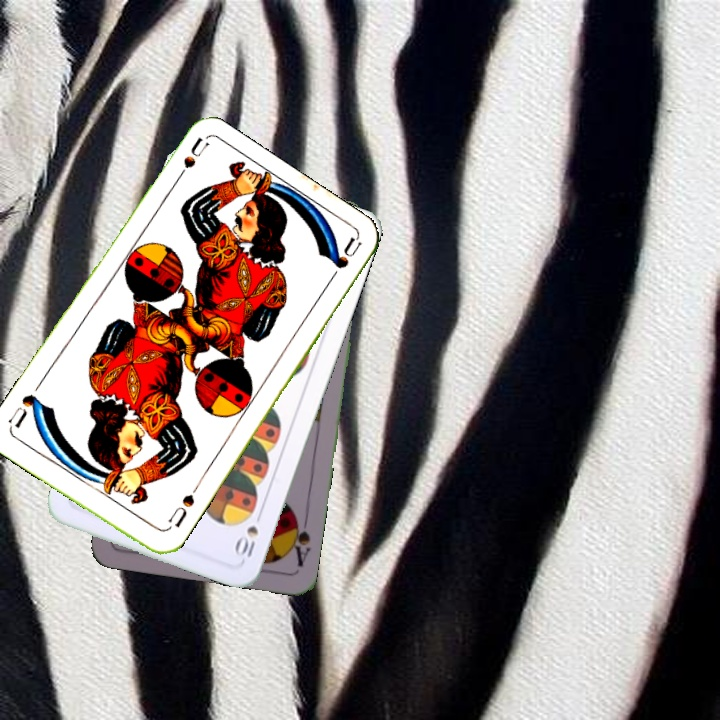S10: (231, 506, 266, 563)
SA: (284, 510, 313, 569)
SU: (168, 135, 209, 189), (162, 490, 198, 534)
